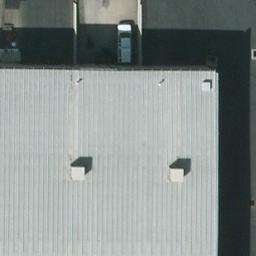car: (116, 24, 135, 66)
